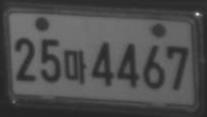2: (15, 38, 35, 82)
4: (90, 41, 114, 87), (117, 43, 140, 88)
5: (40, 39, 61, 83)
6: (143, 45, 165, 89)
7: (166, 45, 188, 90)
마: (63, 49, 87, 84)
